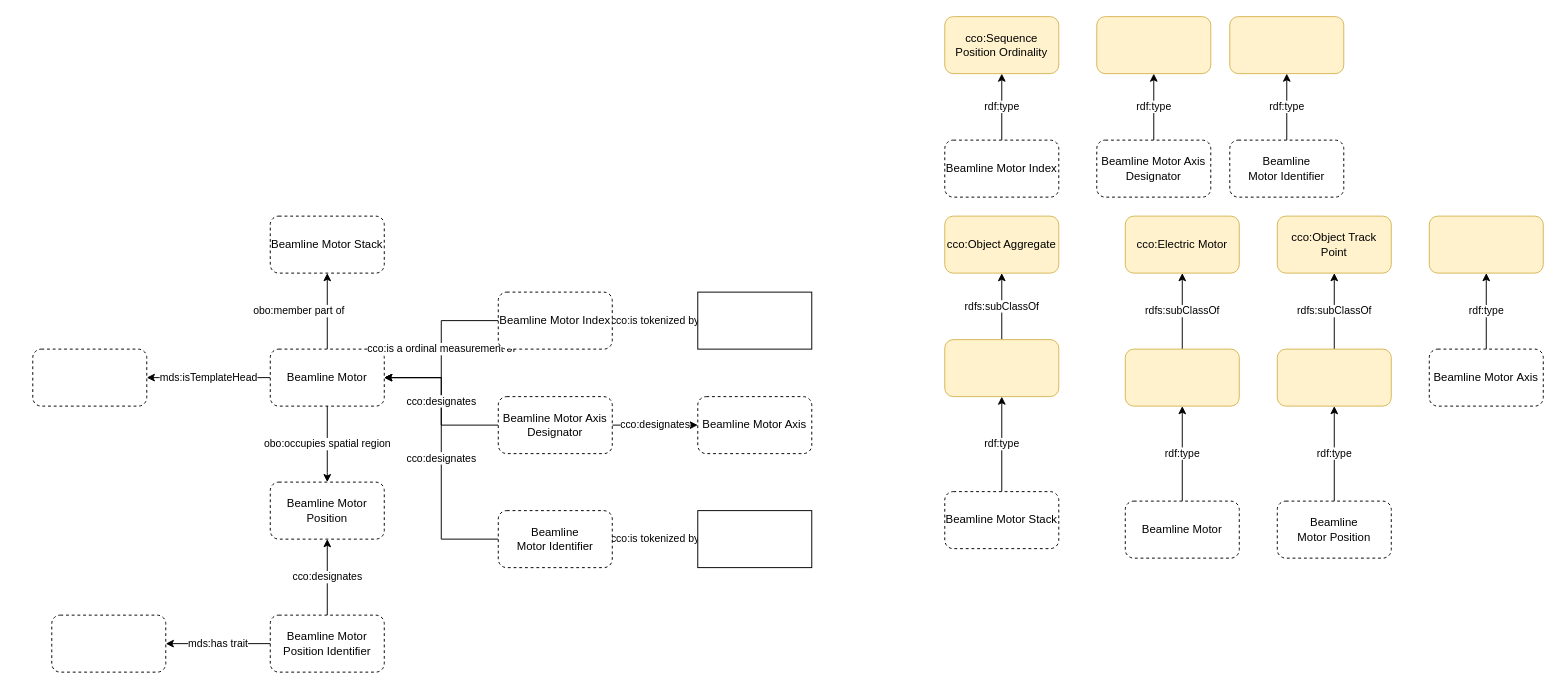
The diagram is 1560 pixels wide and 689 high, and some of its shapes have lost their labels. Each missing label, with the centre of its shape:
"Beamline Motor Identifier Value"^^xsd:string: point (754, 539)
"Beamline Motor Index Value"^^xsd:string: point (754, 320)
cco:Code Identifier: point (1286, 45)
cco:Coordinate System Axis: point (1485, 244)
cco:Designative Information Content Entity: point (1153, 45)
mds:Beamline Motor Position: point (1333, 377)
mds:Beamline Motor Stack: point (1001, 368)
mds:BeamlineMotorTemplate: point (89, 377)
mds:Motor: point (1181, 377)
mds:ReadEPICSVariable: point (108, 643)
